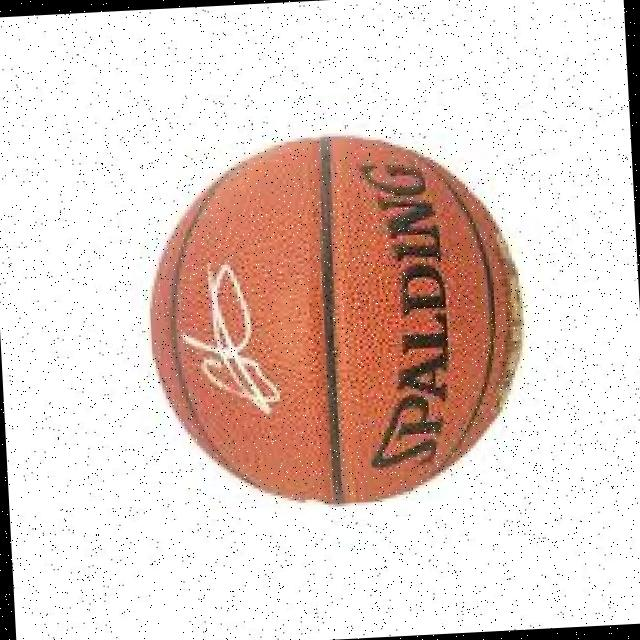ball: (144, 128, 534, 512)
